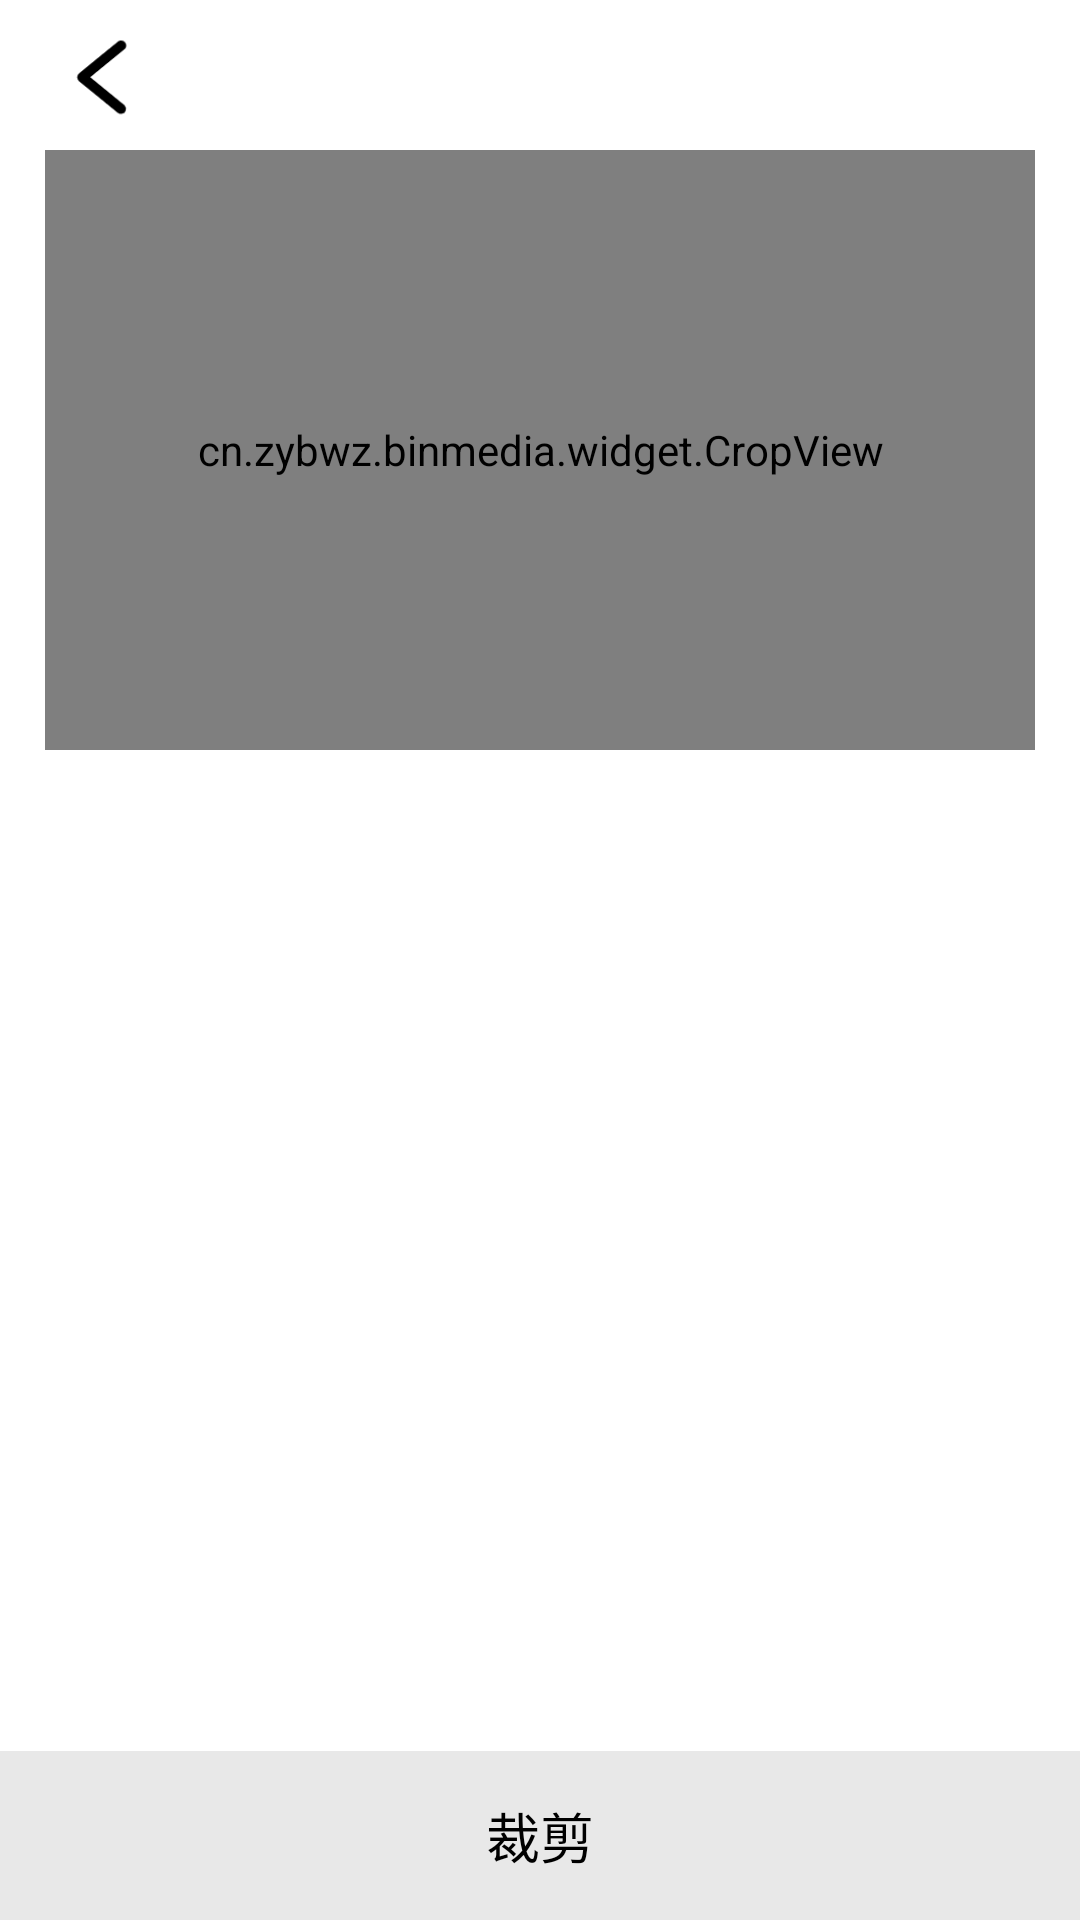

Icon click points for this 1080*1920 phone screenshot, format [x,y]:
back: [101,77]
